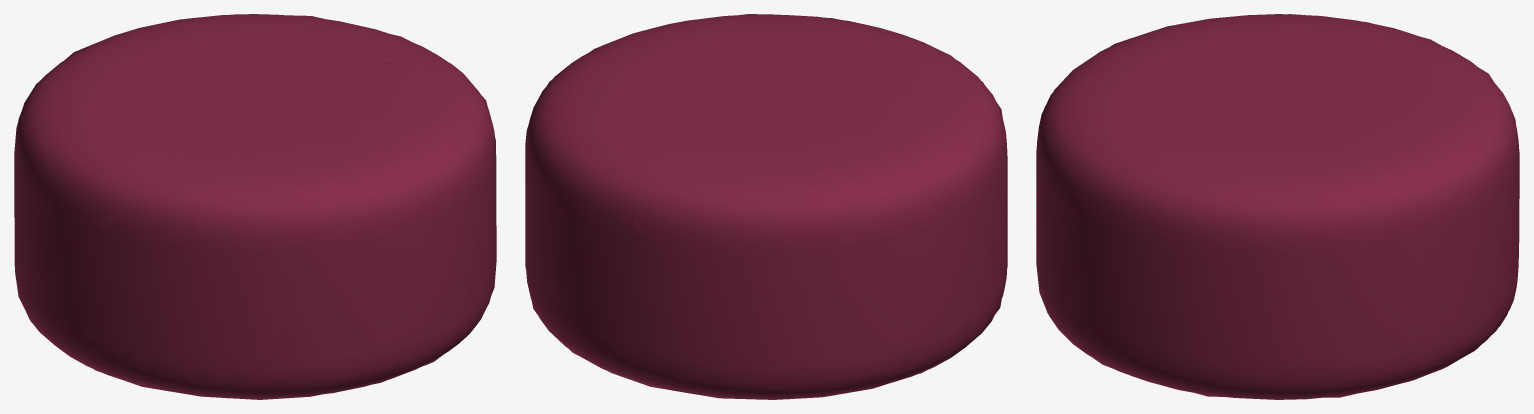
File: layer-velvet.low.glb
3 views of the same model, side by side, from view 1: azimuth 30°, elevation 25°; view 2: azimuth 150°, elevation 25°; view 3: azimuth 270°, elevation 25° (orthographic).
Parts seen in each view (by area): view 1: velvet (×2); view 2: velvet (×2); view 3: velvet (×2).
Boxes of the visible parts, box(x1,y1,x2,y2) form: velvet (×2): box(14, 14, 496, 399); velvet (×2): box(525, 14, 1007, 399); velvet (×2): box(1036, 14, 1519, 399).
Size of the model in its own units: 0.8999 by 0.46 by 0.901.
